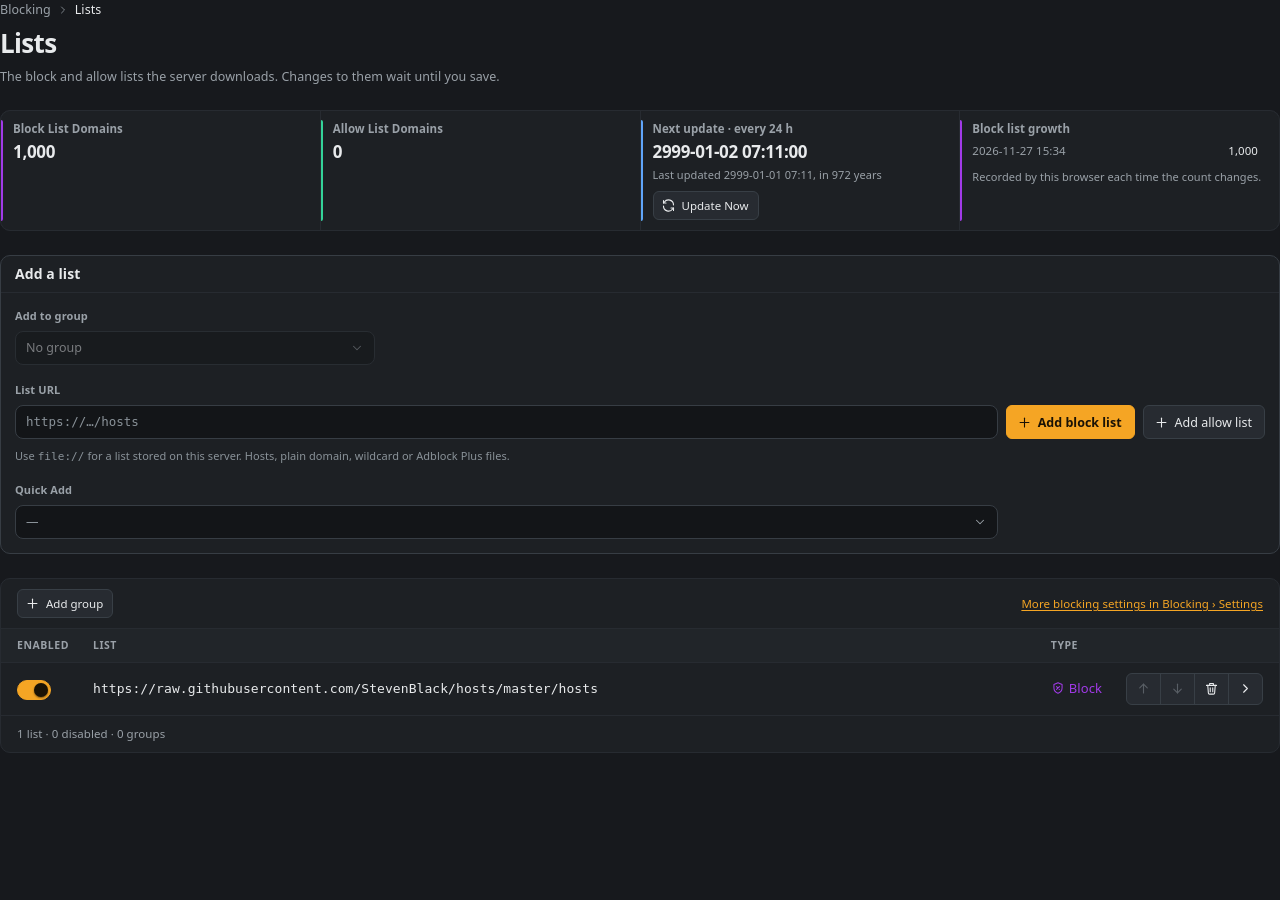
Test: Save and Update Now › saves, then asks as Update Now asks, then updates: in that order, with each one its texts
What coordinates should you click on to do the following:
click the checkbox named "Enabled"
I would click on:
 (34, 690)
Its box is [17, 680, 51, 700].
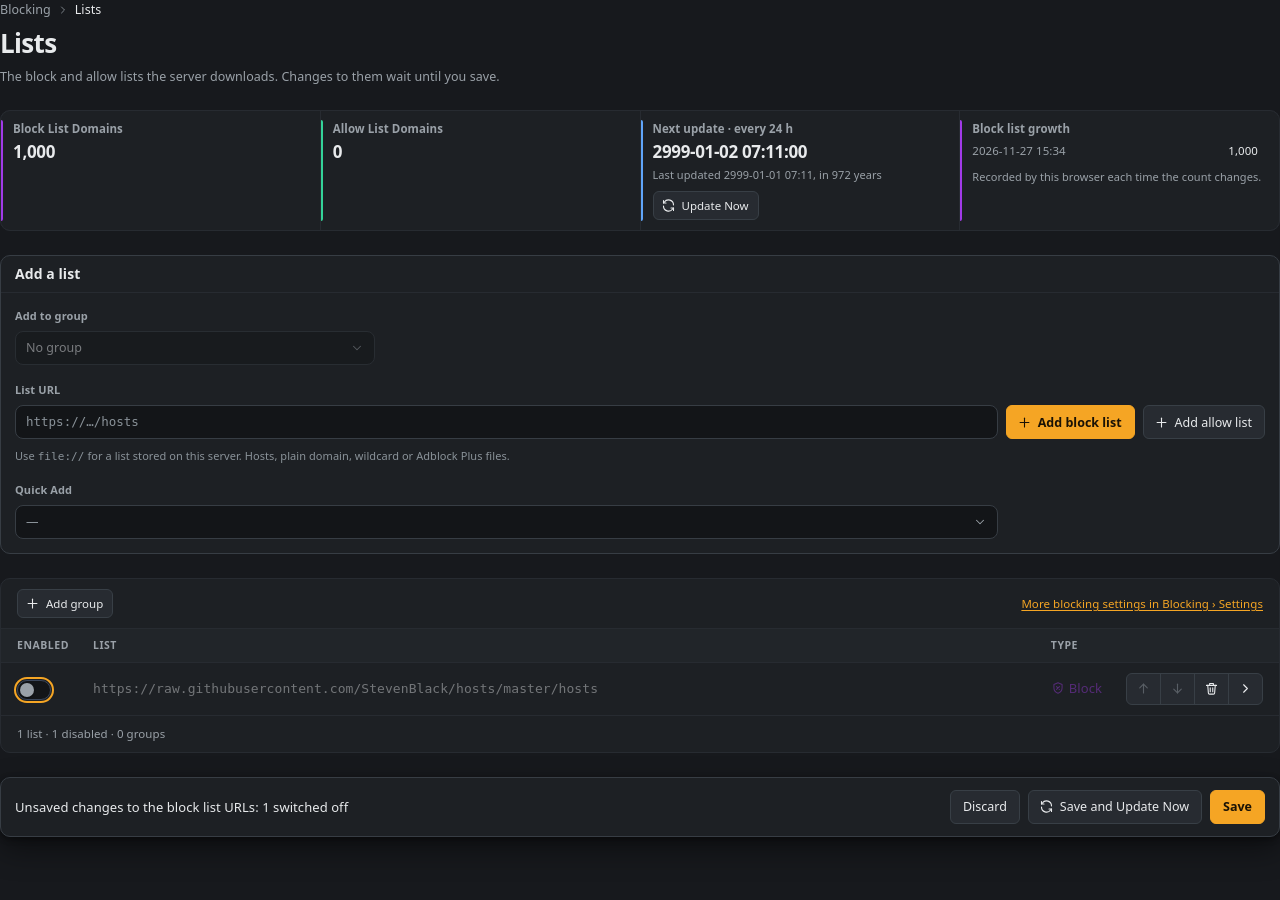
What coordinates should you click on to do the following:
click the button "Save and Update Now"
I would click on:
 (1115, 807)
Its box is [1028, 790, 1202, 824].
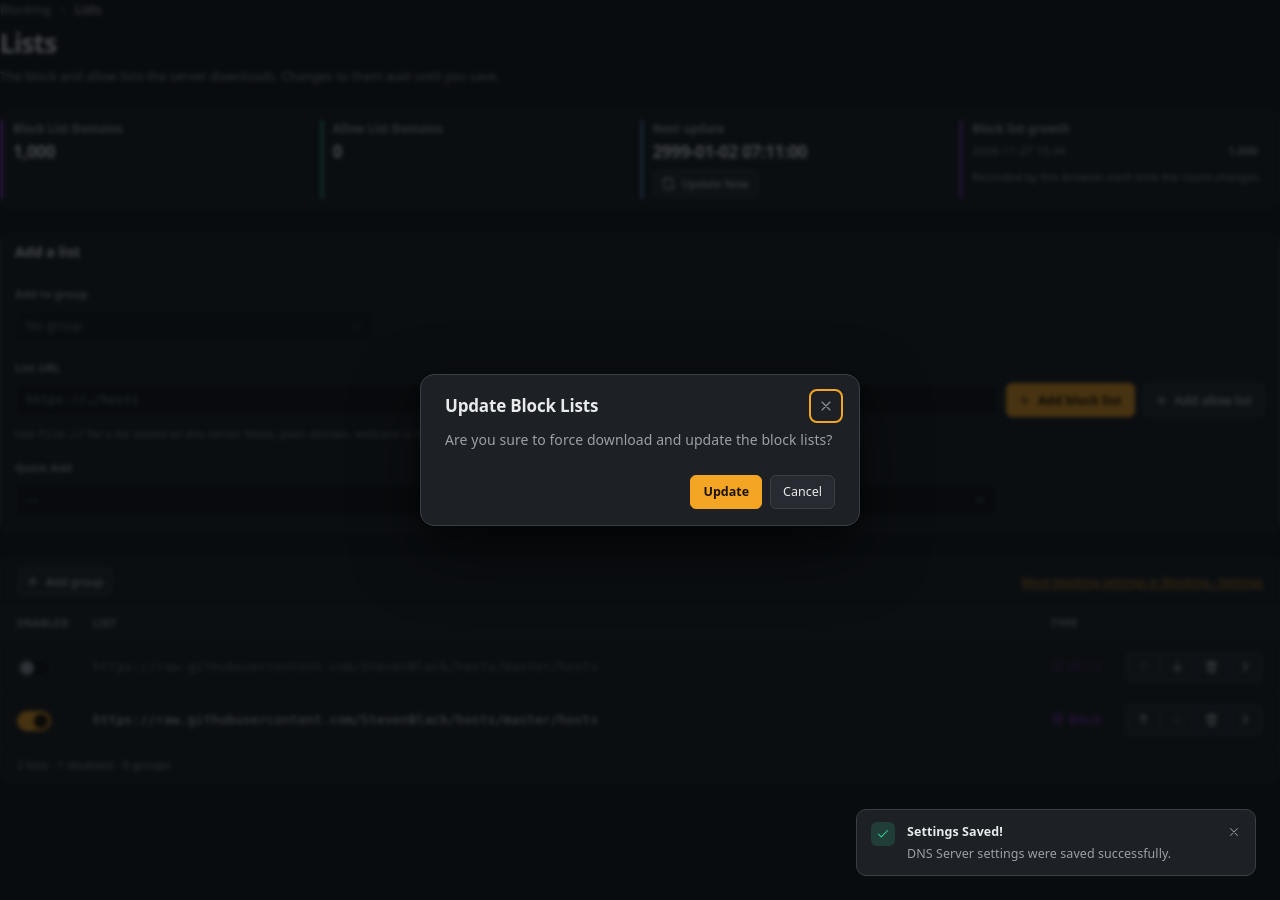
Check: the text "Are you sure to force download and update the block lists?" is shown, box [445, 429, 835, 451]
What coordinates should you click on to do the following:
click the button "Update"
I would click on:
 (726, 492)
Its box is [690, 475, 762, 509].
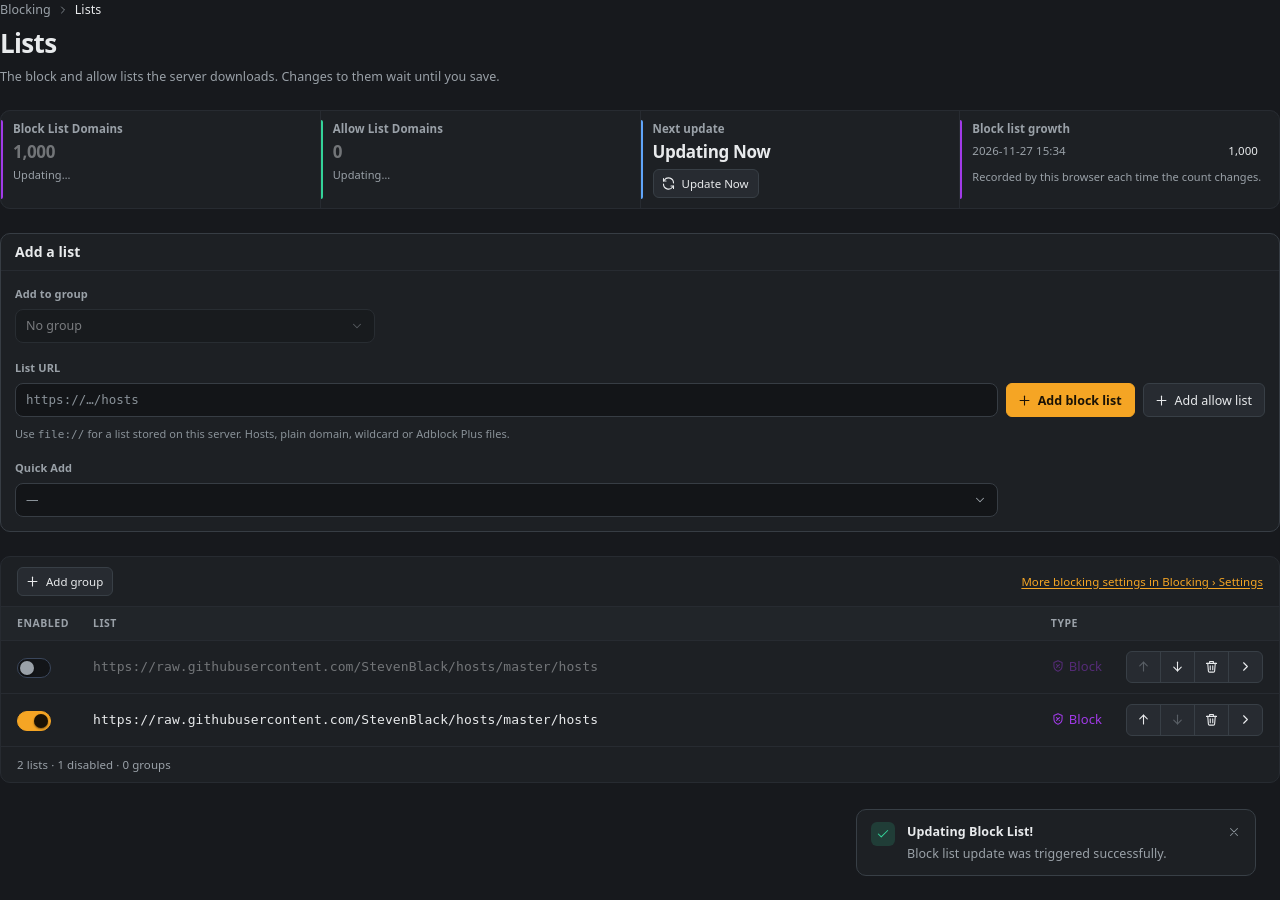
Check: the text "Block list update was triggered successfully." is shown, box [907, 845, 1167, 862]
